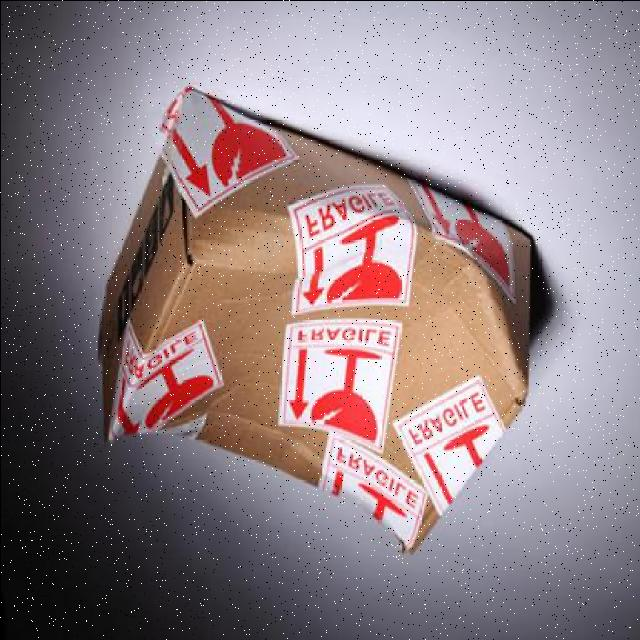defect: (89, 85, 571, 558)
